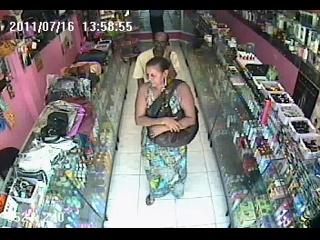Normal: (135, 56, 199, 202), (132, 32, 178, 88), (76, 50, 108, 66)
